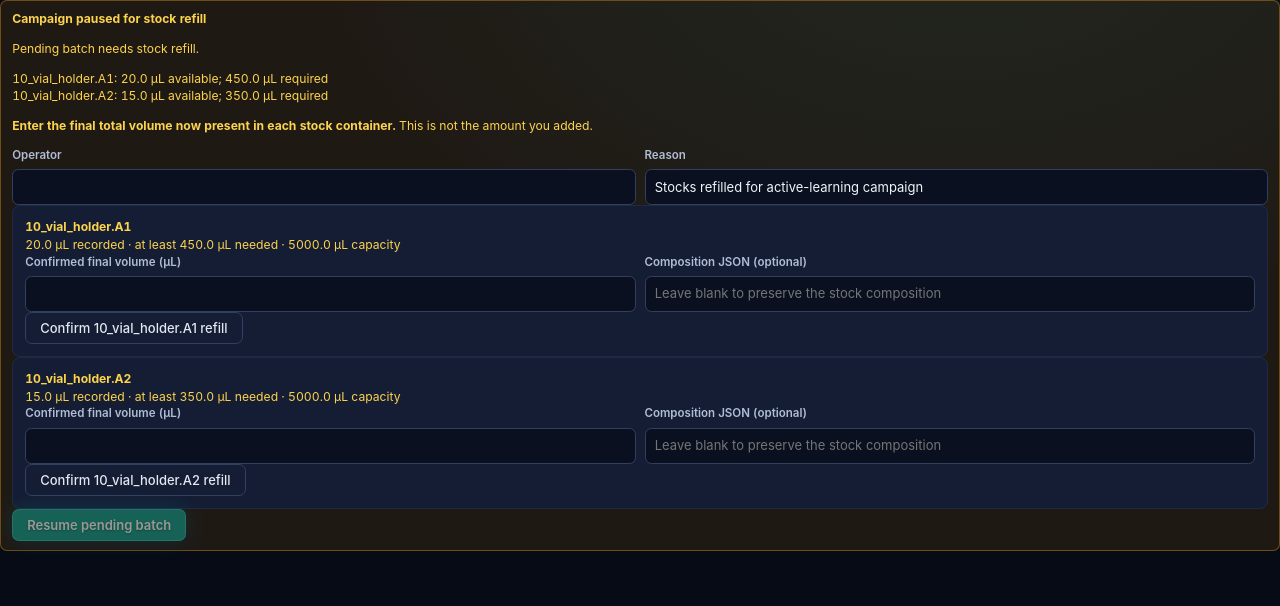
Scenario: keeps entered refill evidence after an API error and never resumes
The width and height of the screenshot is (1280, 606).
Type "Alex" into the field named "Refill operator" at (324, 187), box [12,169,636,205]
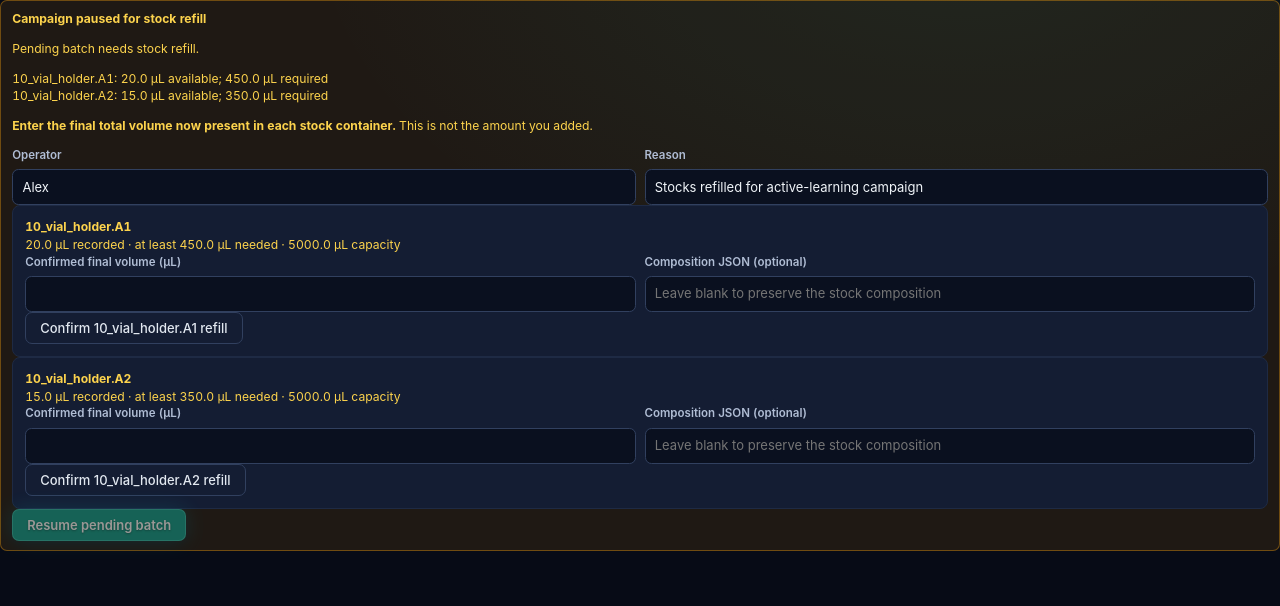
Type "1000" into the number field named "10_vial_holder.A1 confirmed final volume" at (330, 294), box [25,276,636,312]
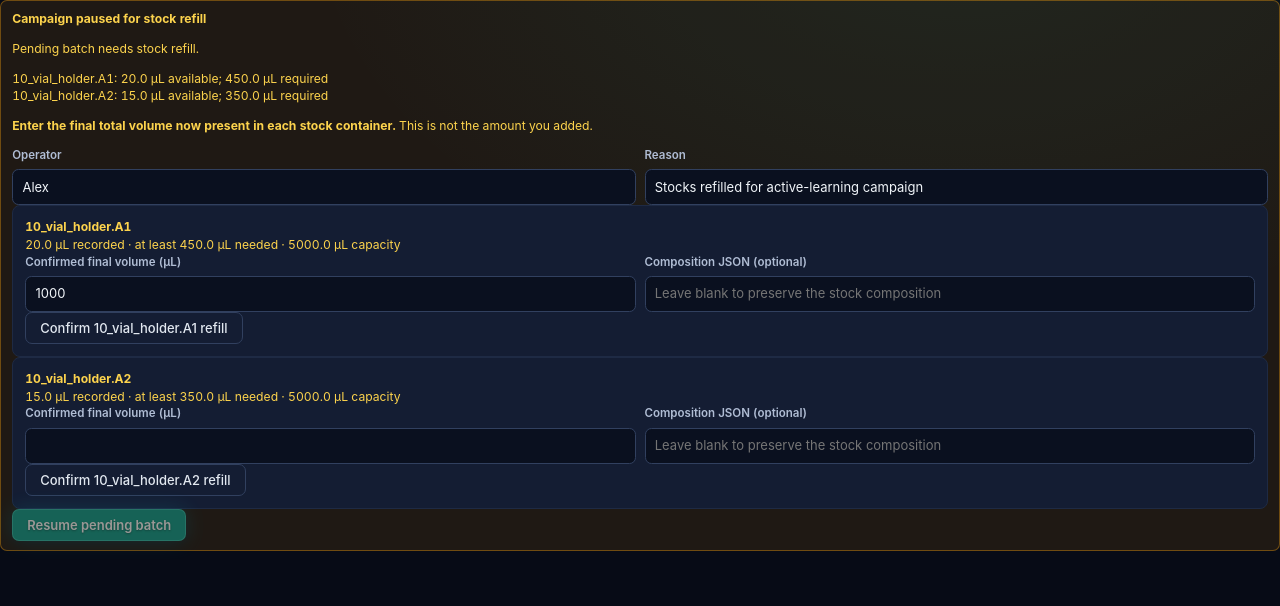
Click the button "Confirm 10_vial_holder.A1 refill" at (134, 328), box [25,312,242,344]
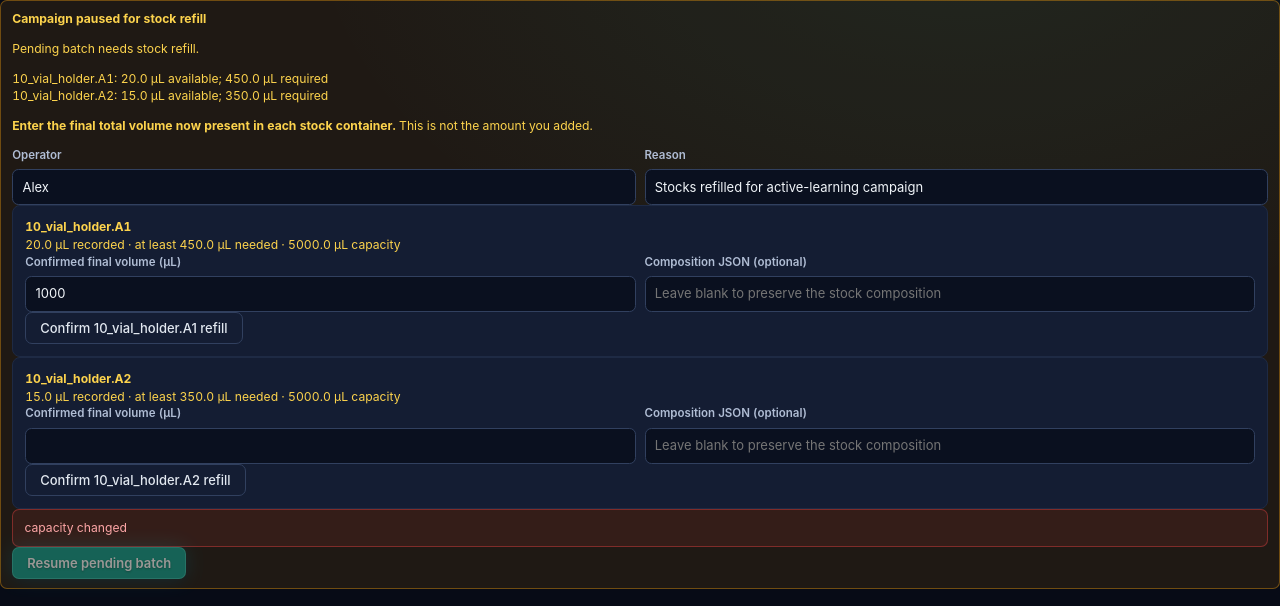
Expected: the button "Resume pending batch" is disabled, [12,547,186,579]
Now the message reads "capacity changed", box [24,520,127,535]
